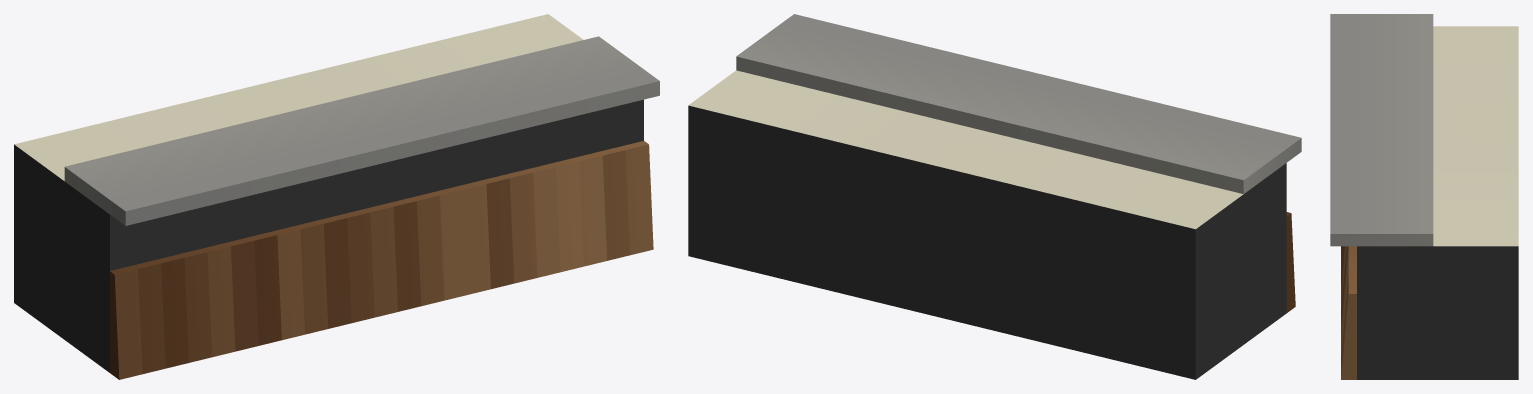
File: B01_Bar_2_modulair.fbx
The picture shows the model from 3 angles, left to right: view 1: azimuth 30°, elevation 25°; view 2: azimuth 150°, elevation 25°; view 3: azimuth 270°, elevation 25°; orthographic projection. The views are drawn at different scales.
Visible parts, largest first — view 1: B01_Bar_2_modulair; view 2: B01_Bar_2_modulair; view 3: B01_Bar_2_modulair.
Boxes of the visible parts, x1=… form: B01_Bar_2_modulair: x1=14, y1=14, x2=659, y2=379; B01_Bar_2_modulair: x1=688, y1=14, x2=1301, y2=379; B01_Bar_2_modulair: x1=1330, y1=14, x2=1518, y2=379.
Bounding box in the file's own units: 299 × 92.76 × 108.
